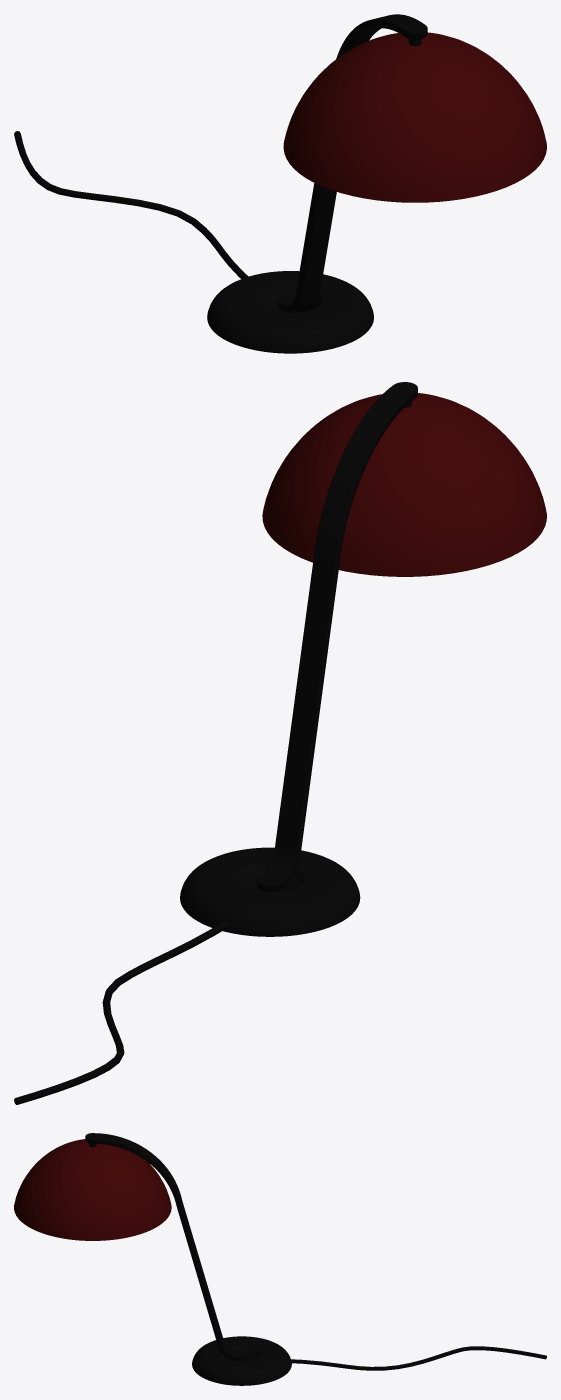
Rendered from Lamp.fbx.
3 renders of one model, top to bottom at view 1: azimuth 30°, elevation 25°; view 2: azimuth 150°, elevation 25°; view 3: azimuth 270°, elevation 25°, orthographic. The views are drawn at different scales.
Visible parts, largest first — view 1: Hay_Cloche_mat2; view 2: Hay_Cloche_mat2; view 3: Hay_Cloche_mat2.
Boxes of the visible parts, x1,y1,x2,y2 form: Hay_Cloche_mat2: (14, 14, 546, 353); Hay_Cloche_mat2: (14, 382, 546, 1104); Hay_Cloche_mat2: (14, 1133, 546, 1385).
Size of the model in its own units: 26.44 by 89.37 by 42.4.
